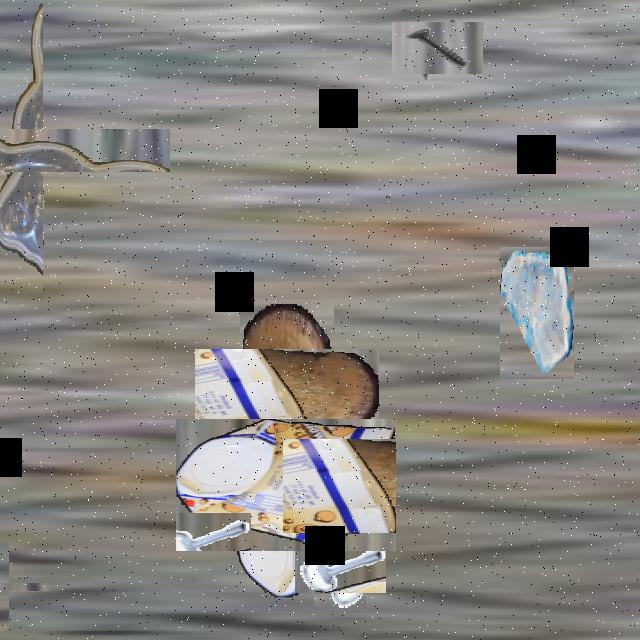glass: (500, 247, 574, 379)
metal: (401, 12, 473, 84), (304, 531, 376, 603), (0, 562, 29, 611)
plastic: (198, 397, 374, 574), (0, 65, 106, 236)
wood: (217, 327, 357, 466)
